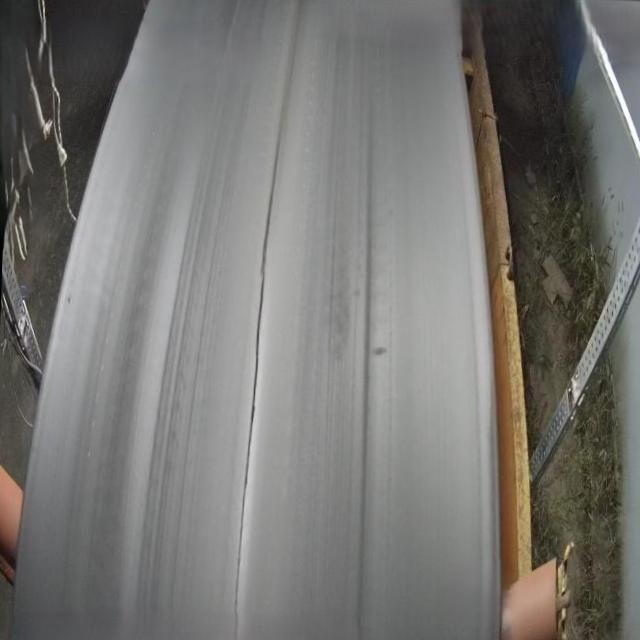Tear: (222, 0, 310, 640)
